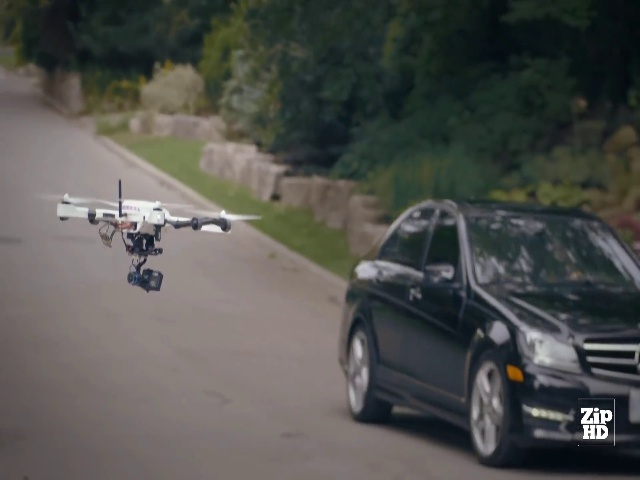drone: (38, 169, 264, 297)
